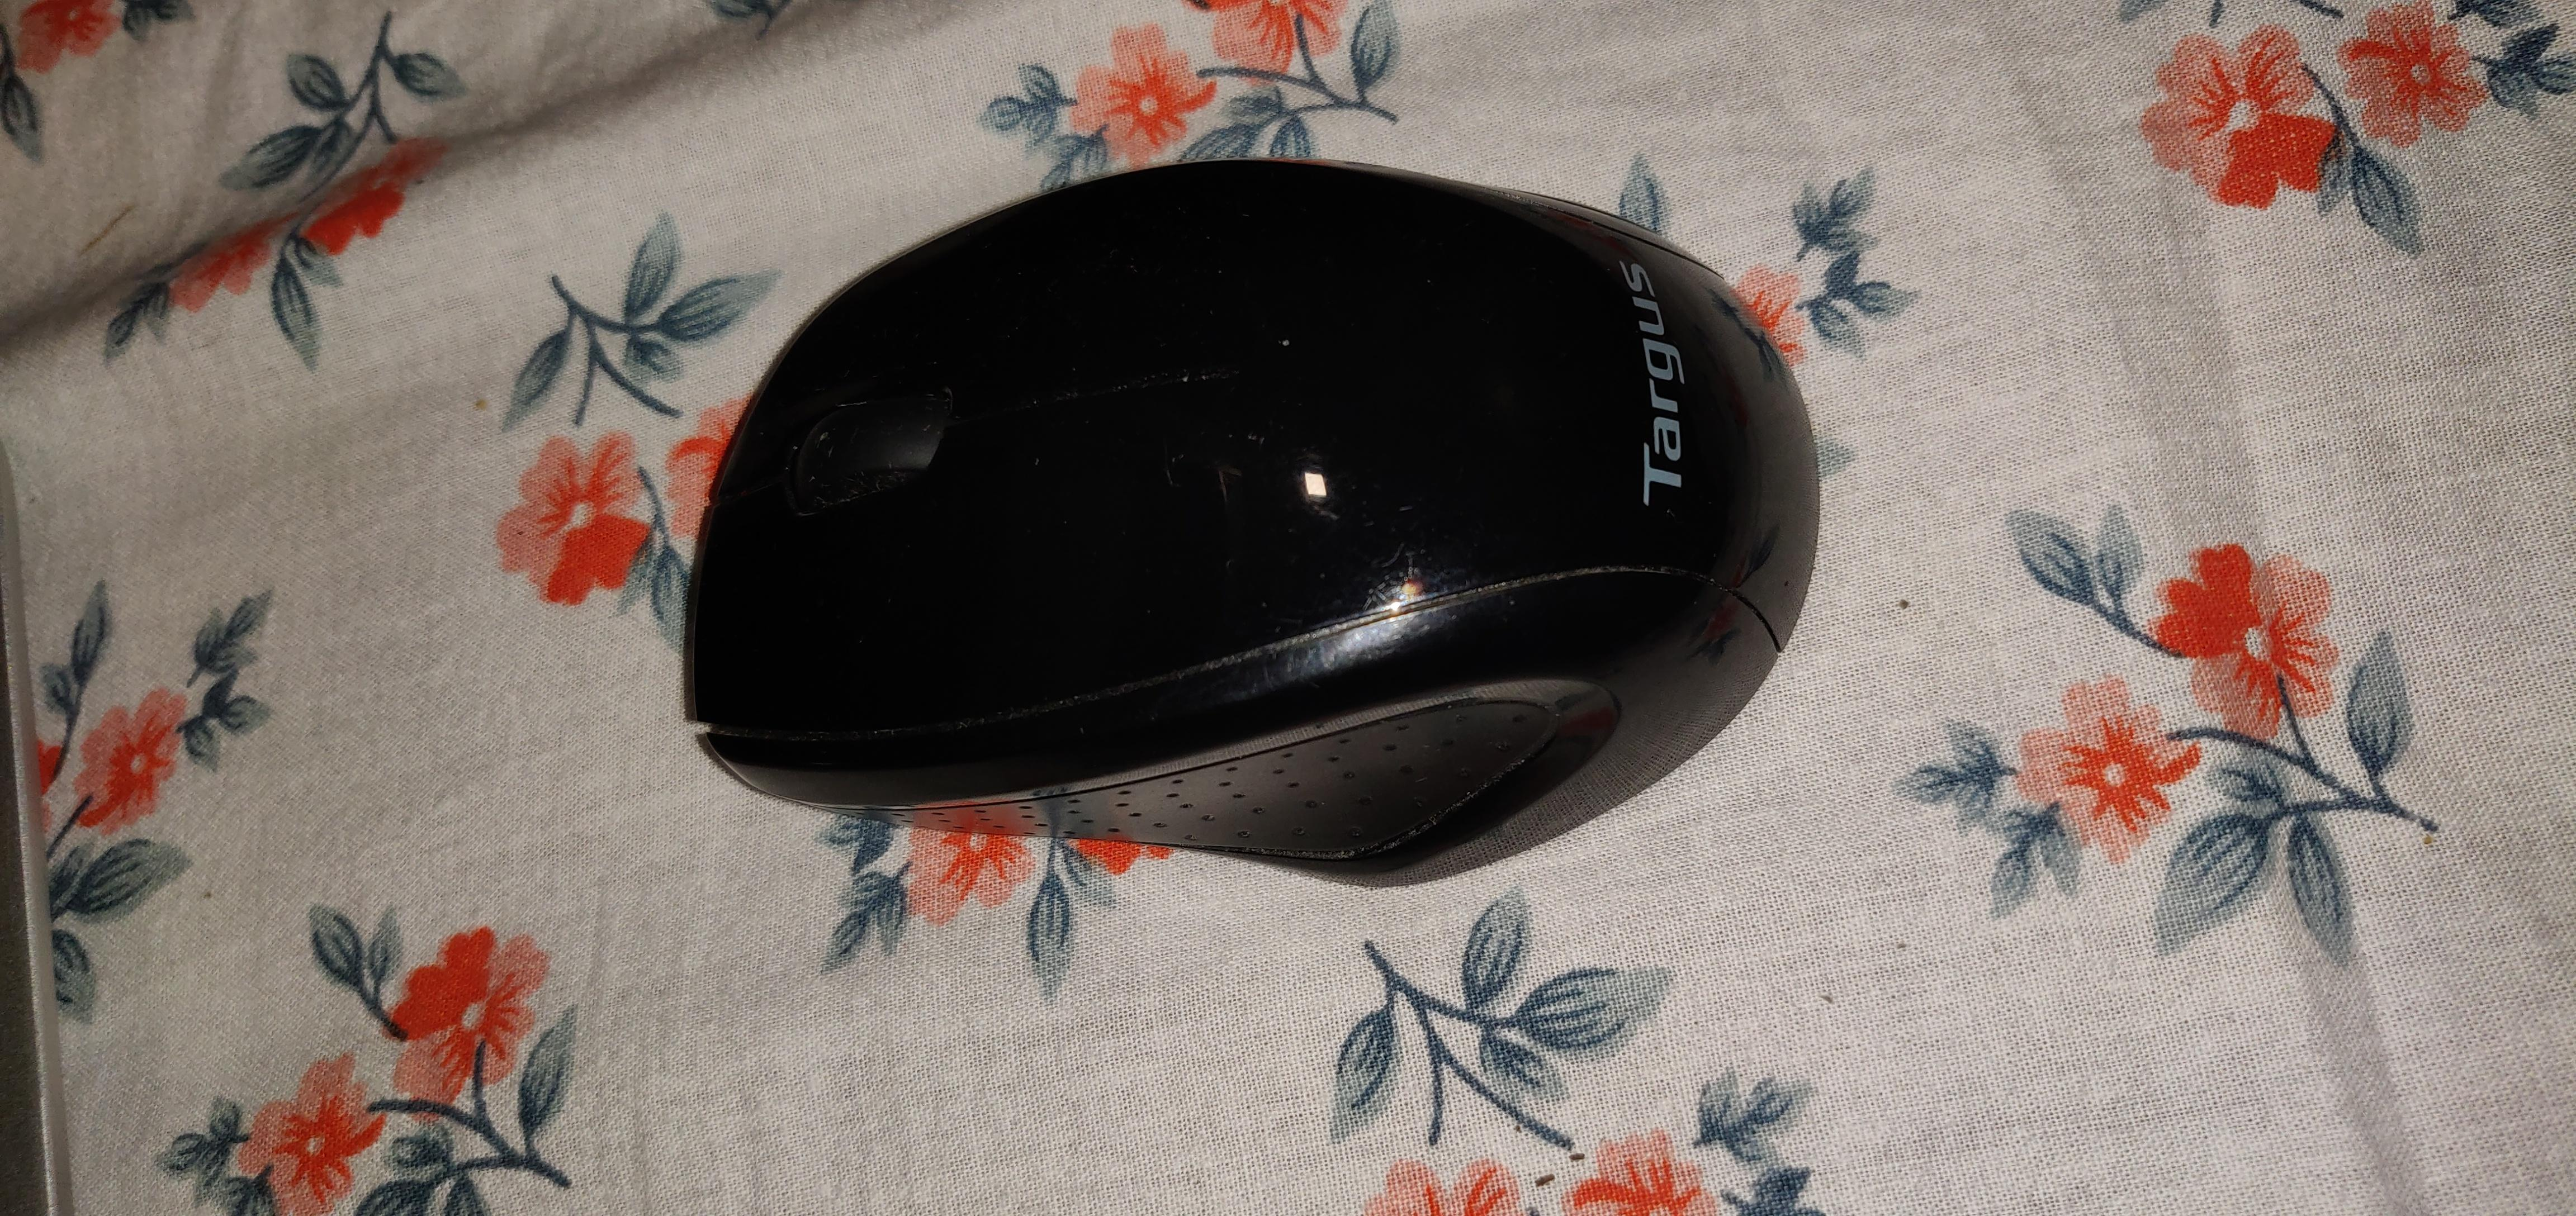mouse: (647, 122, 1856, 951)
